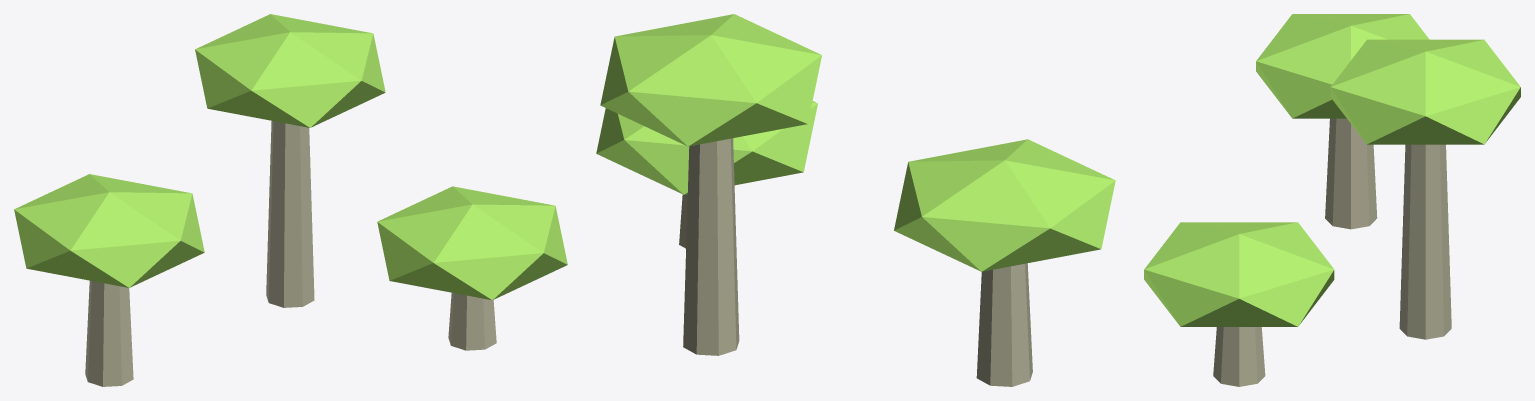
Rendered from SH10_L02_Mushrooms.fbx.
3 views of the same model, side by side, from view 1: azimuth 30°, elevation 25°; view 2: azimuth 150°, elevation 25°; view 3: azimuth 270°, elevation 25° (orthographic). The views are drawn at different scales.
Visible parts, largest first — view 1: SH10_L02_Mushrooms; view 2: SH10_L02_Mushrooms; view 3: SH10_L02_Mushrooms.
Part boxes in pixels (x1,y1,x2,y2): SH10_L02_Mushrooms: (14, 14, 567, 386); SH10_L02_Mushrooms: (596, 14, 1115, 386); SH10_L02_Mushrooms: (1144, 14, 1520, 386).
Bounding box in the file's own units: 154 × 82 × 101.
